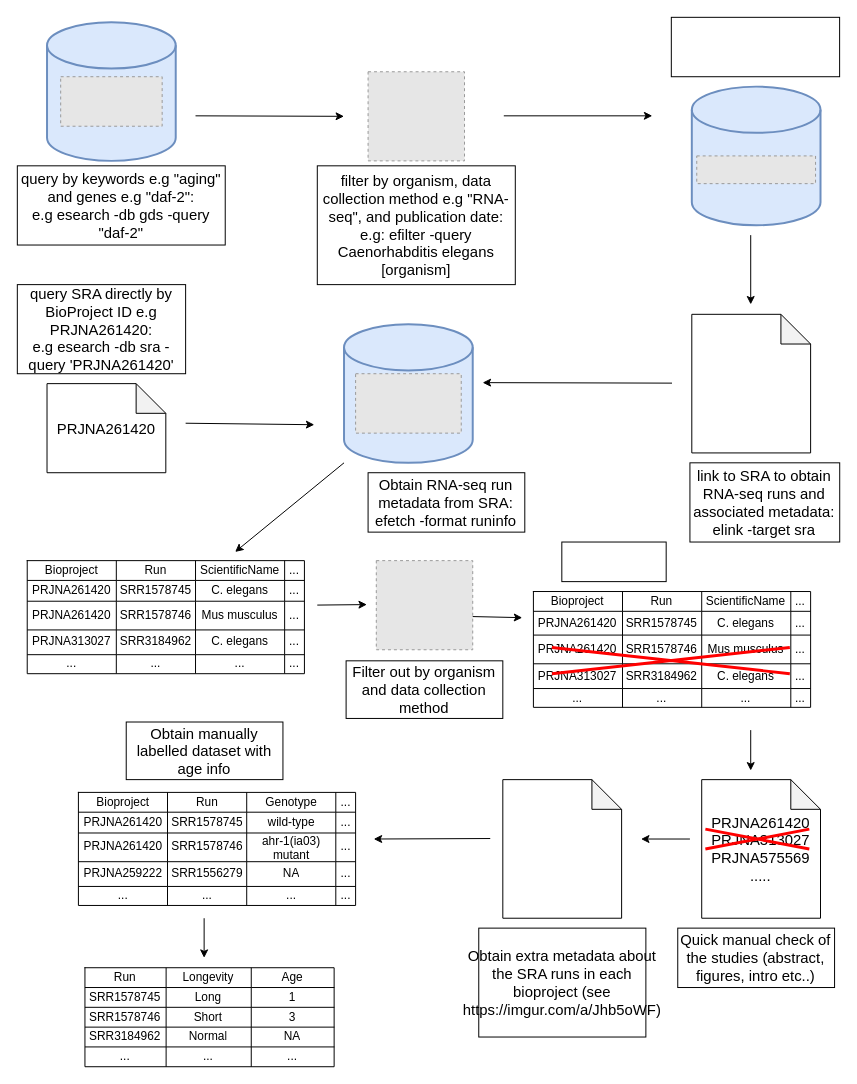
Some shapes in this 857 by 1084 pixel diagram are drawn without their labels. Grey dashed boxes stand in for pictures. The shapes that lost their labels are listed below. From the top down, each one's centre as x and y in pixels, then its label:
(755,46): link to BioProject database to obtain list of relevant BioProject IDs
(751,383): PRJNA342039 PRJNA471520 PRJNA574273 .....
(613,561): Obtain unique Bioprojects
(562,848): PRJNA261420 PRJNA259222 PRJNA575569 .....
